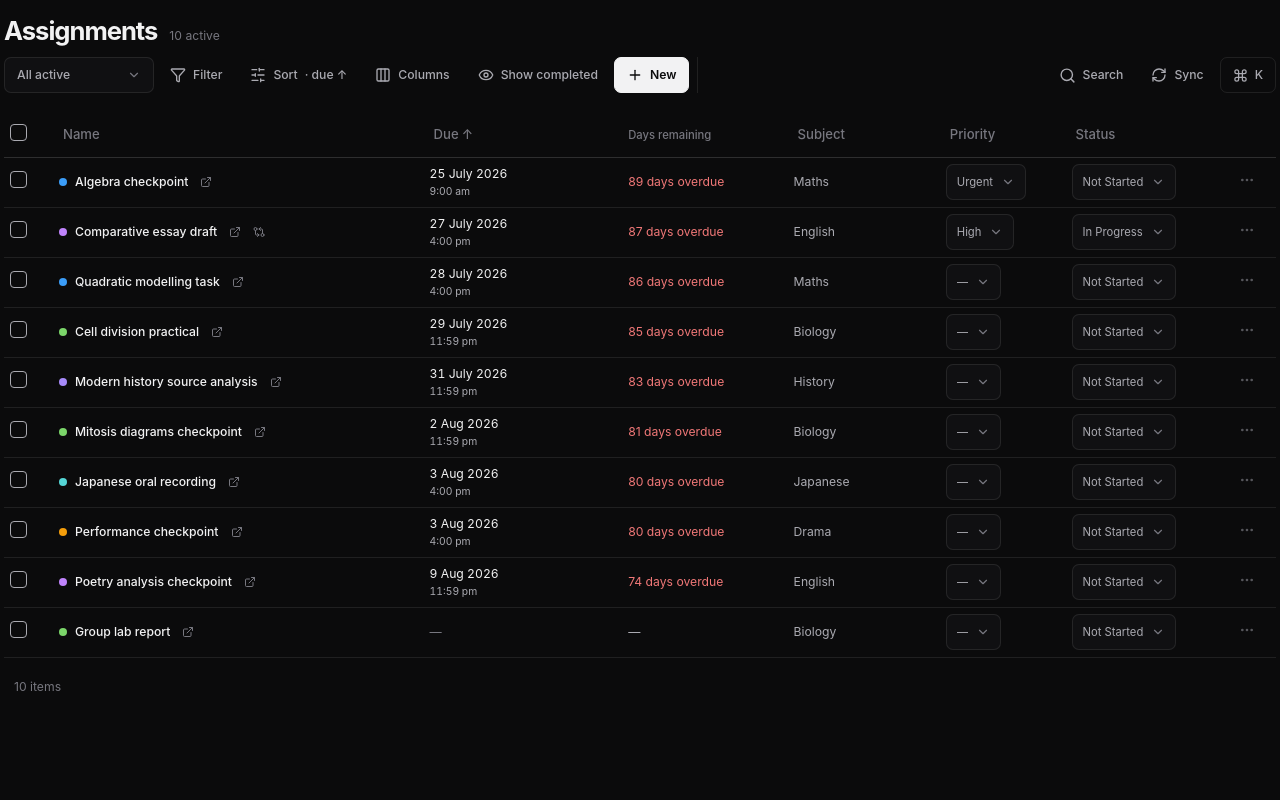
it: Assignment controls › deletes an assignment through the row action menu
Click the button named "Actions for Group lab report" at (1247, 632), box [1234, 617, 1260, 648]
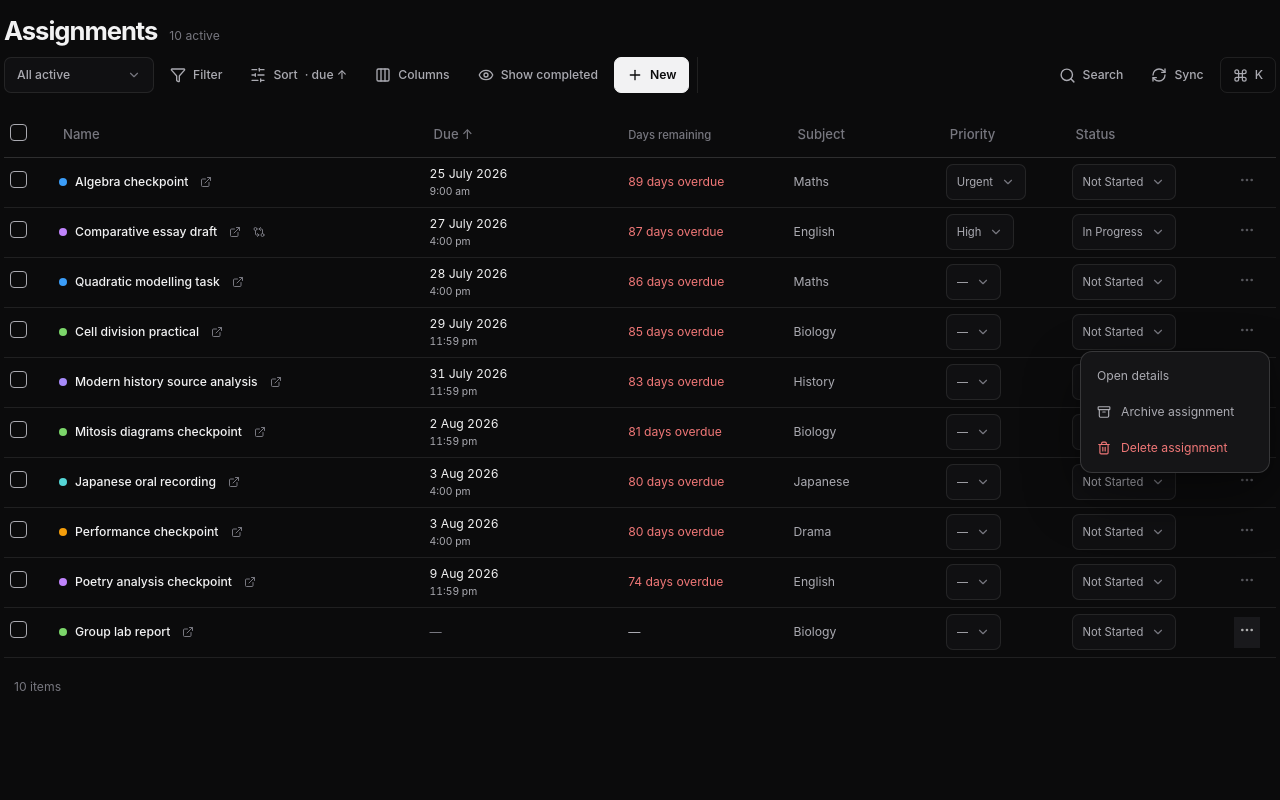
Click the menu item "Delete assignment" at (1175, 448), box [1087, 430, 1263, 466]
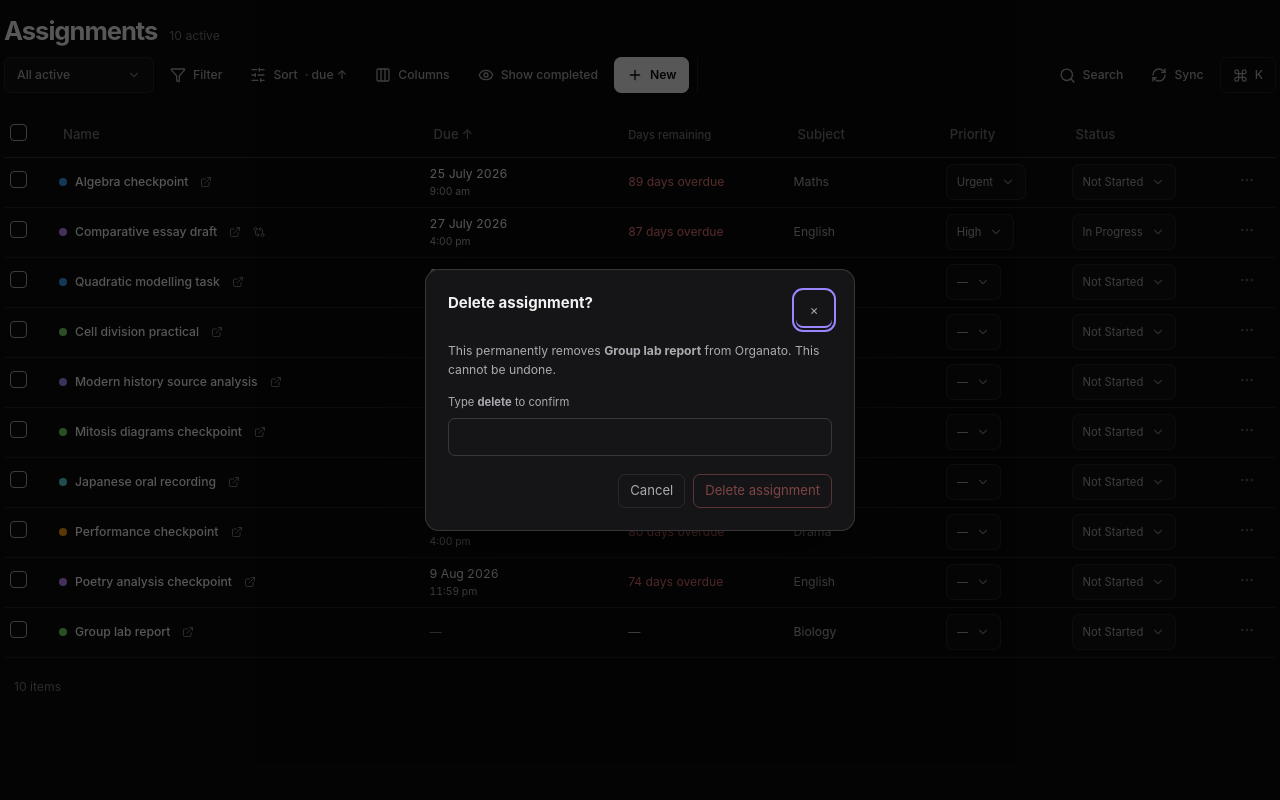
expect the button "Delete assignment" is disabled: met, box [693, 474, 832, 508]
Type "delete" into the field named "Type delete to confirm assignment deletion" at (640, 436), box [448, 418, 832, 456]
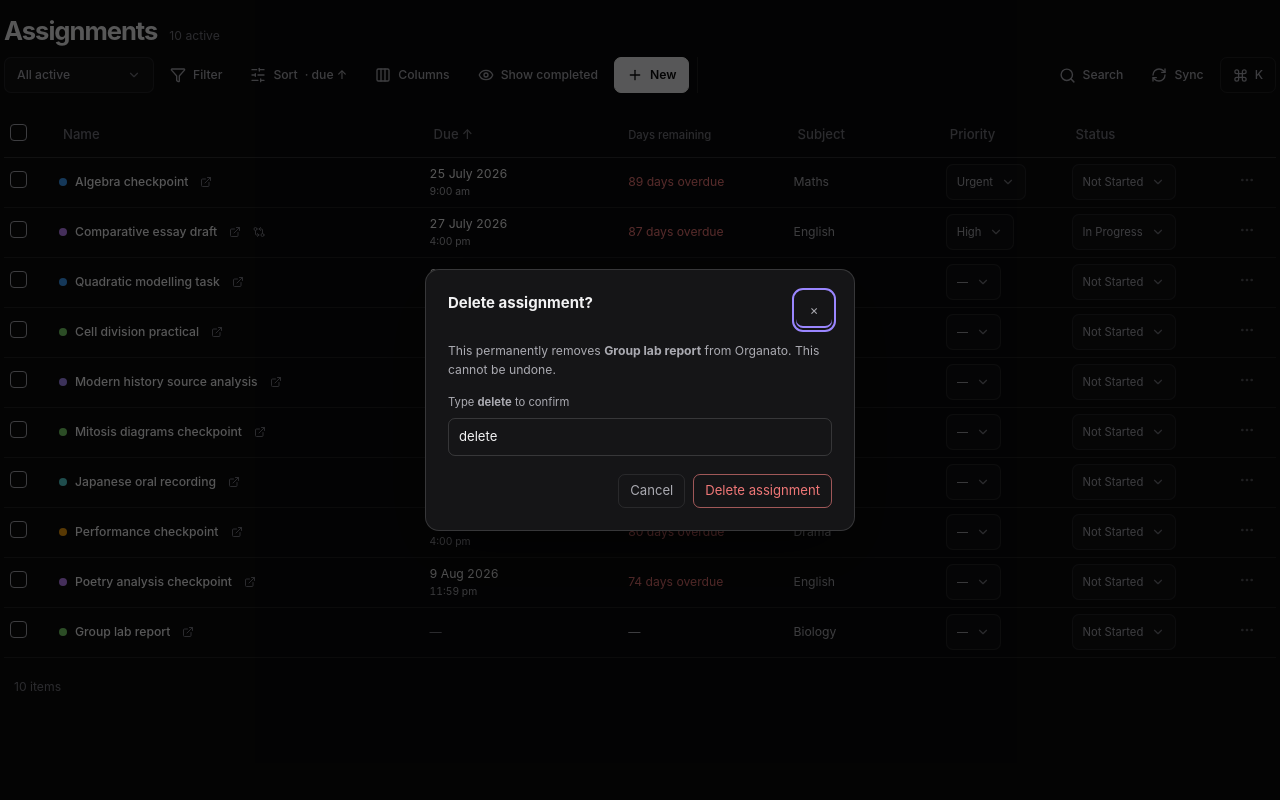
expect the button "Delete assignment" is enabled: met
Click the button "Delete assignment" at (763, 490), box [693, 474, 832, 508]
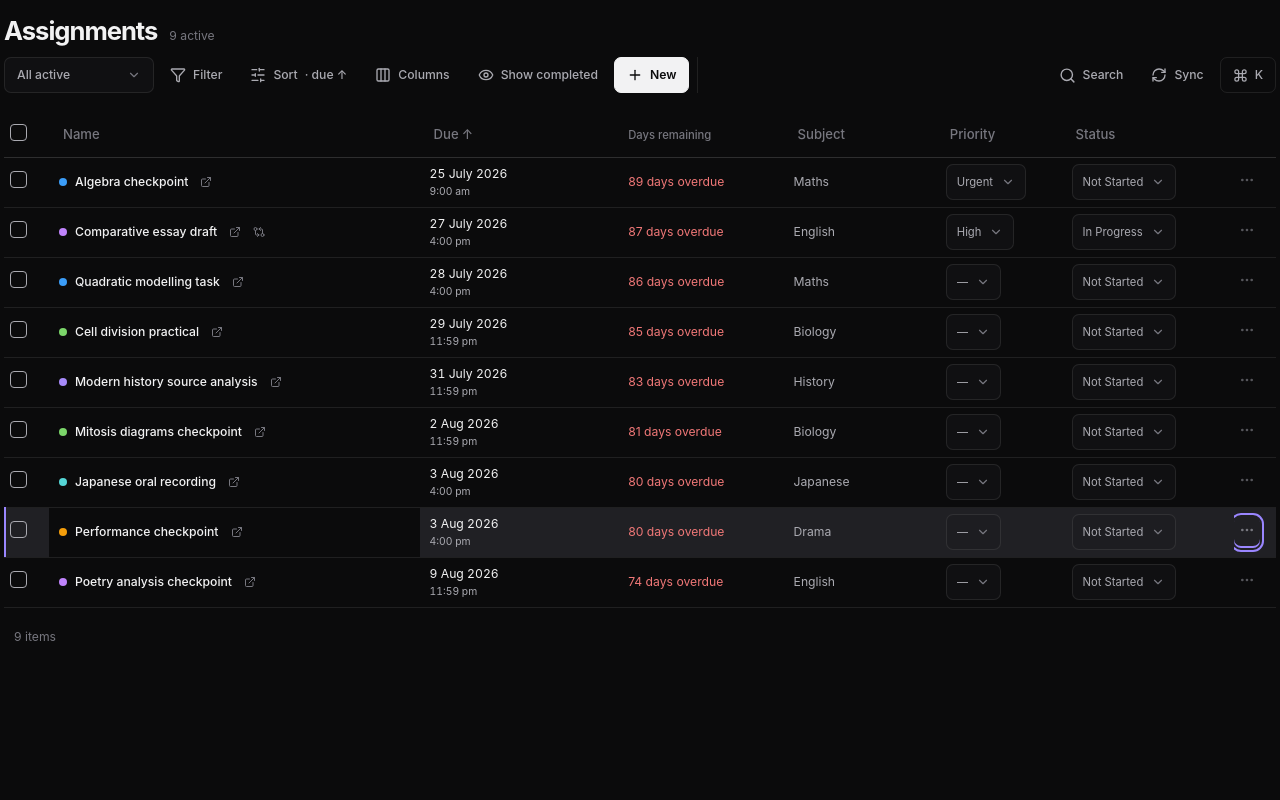
expect the text "Group lab report" is gone: met
